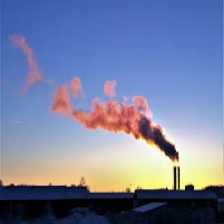smoke: (58, 79, 182, 163)
